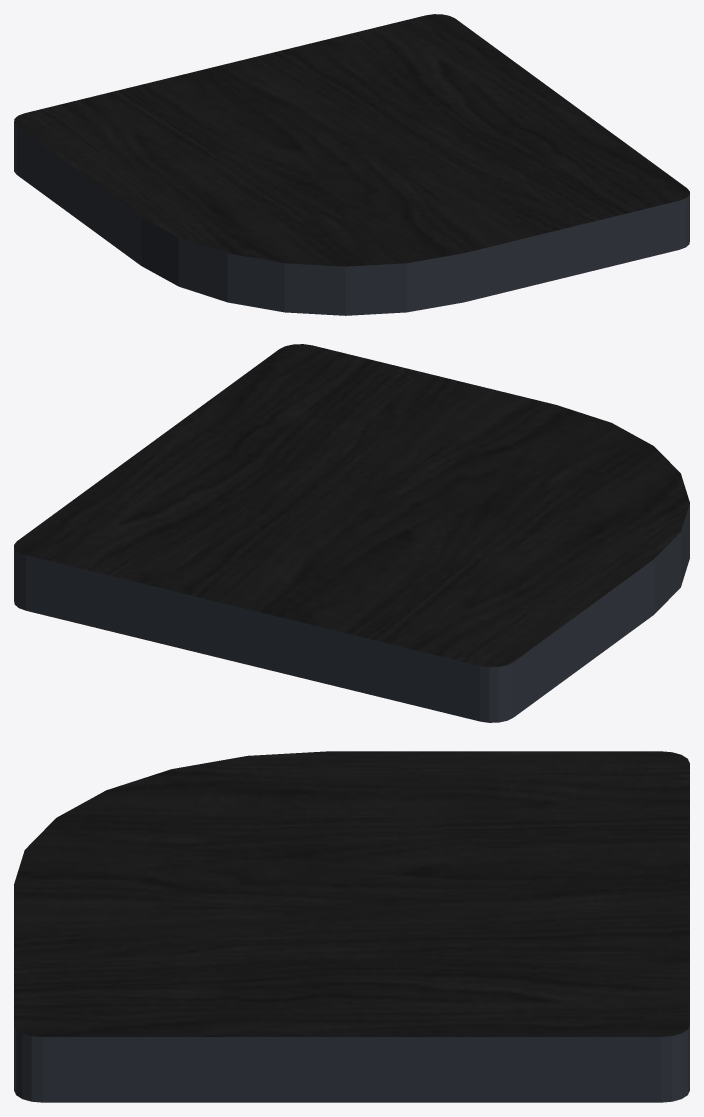
File: CornerCell.fbx
The picture shows the model from 3 angles, top to bottom: view 1: azimuth 30°, elevation 25°; view 2: azimuth 150°, elevation 25°; view 3: azimuth 270°, elevation 25°; orthographic projection. The views are drawn at different scales.
Visible parts, largest first — view 1: Corner Cell; view 2: Corner Cell; view 3: Corner Cell.
Part boxes in pixels (x1,y1,x2,y2): Corner Cell: (14,14,689,315); Corner Cell: (14,344,689,722); Corner Cell: (14,751,689,1102).
Size of the model in its own units: 350 by 37.5 by 350.
Materials: 2 (1 with a texture image).
